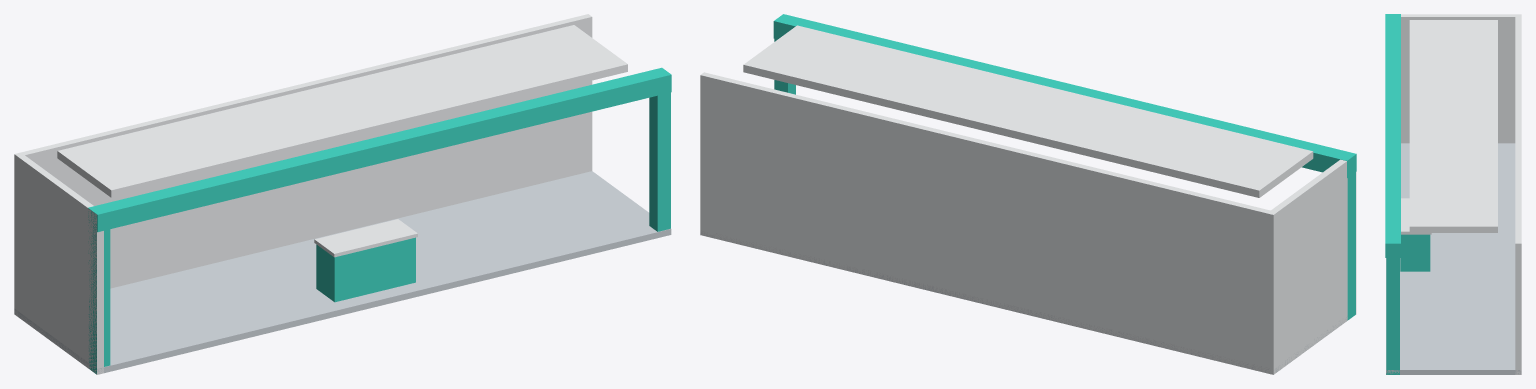
The picture shows the model from 3 angles, left to right: view 1: azimuth 30°, elevation 25°; view 2: azimuth 150°, elevation 25°; view 3: azimuth 270°, elevation 25°; orthographic projection. The views are drawn at different scales.
Visible parts, largest first — view 1: Exhibition Booth Concept; view 2: Exhibition Booth Concept; view 3: Exhibition Booth Concept.
Part boxes in pixels (<box>): Exhibition Booth Concept: <box>14,14,671,374</box>; Exhibition Booth Concept: <box>700,14,1356,374</box>; Exhibition Booth Concept: <box>1385,14,1521,374</box>.
Bounding box in the file's own units: 12 × 3.34 × 3.01.
